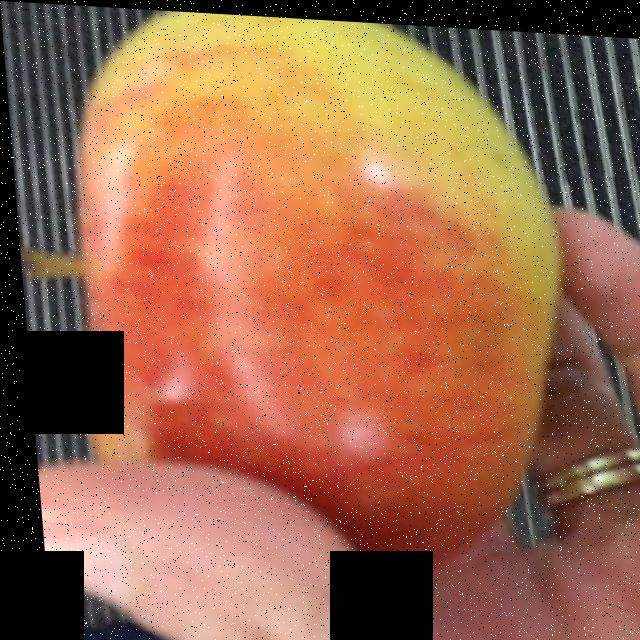apple: (86, 18, 549, 560)
